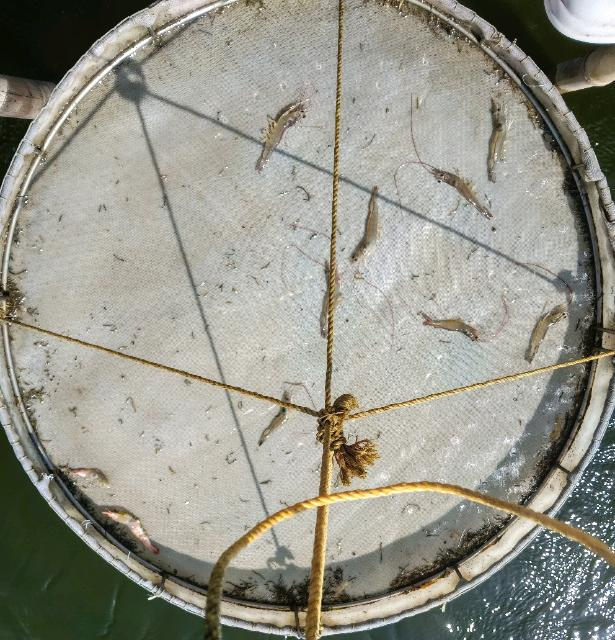shrimp: (256, 92, 310, 171), (421, 162, 491, 221), (102, 509, 160, 554), (526, 305, 566, 363), (351, 186, 381, 263), (320, 258, 345, 339), (258, 391, 291, 445), (487, 99, 507, 183), (421, 312, 480, 340), (63, 468, 109, 487)
